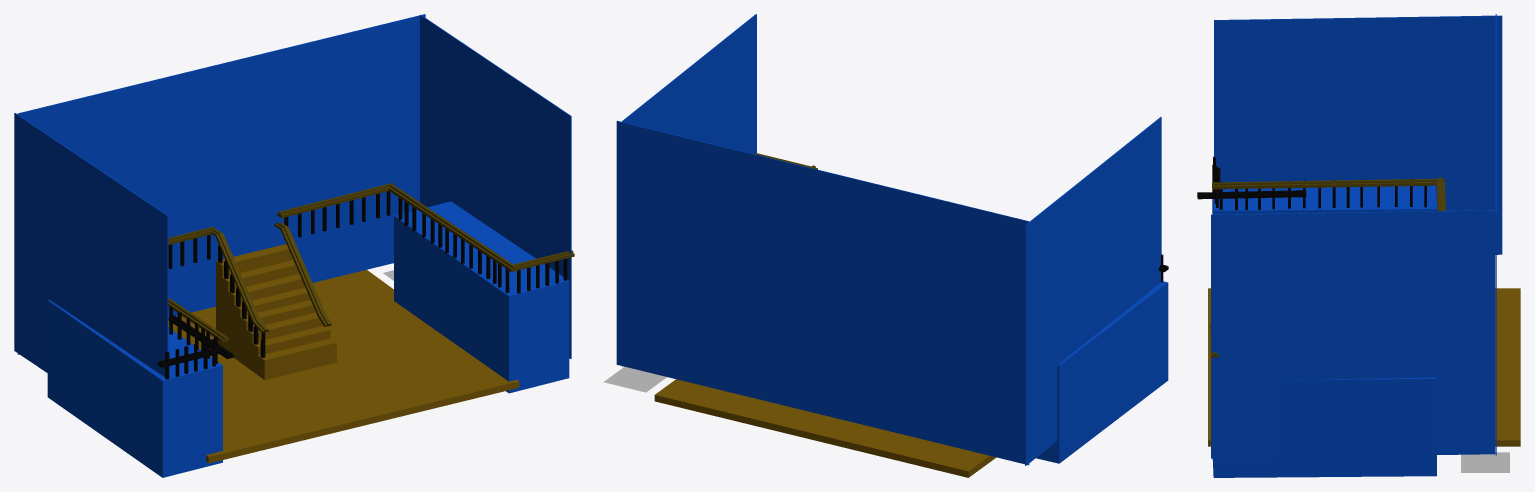
The model's file is casa.gltf.
3 renders of one model, left to right at view 1: azimuth 30°, elevation 25°; view 2: azimuth 150°, elevation 25°; view 3: azimuth 270°, elevation 25°, orthographic.
Visible parts, largest first — view 1: pasted__casa group3 pasted__pCube84, pasted__casa group3 pasted__pCube86, pasted__casa group3 pasted__pCube83, pasted__casa group3 pasted__pCube85, pasted__casa group3 pasted__pCube5, pasted__casa group3 pasted__pCube52, pasted__casa group3 pasted__pCube3, pasted__casa group3 pasted__pCube78, pasted__casa group3 pasted__pCube82, pasted__casa group3 pasted__pCube81, pasted__casa group3 pasted__pCube77; view 2: pasted__casa group3 pasted__pCube84, pasted__casa group3 pasted__pCube86, pasted__casa group3 pasted__pCube52, pasted__casa group3 pasted__pCube85, pasted__casa group3 pasted__pCube83, Eduardo1:pPlane1 pasted__casa group3; view 3: pasted__casa group3 pasted__pCube85, pasted__casa group3 pasted__pCube86, pasted__casa group3 pasted__pCube5, pasted__casa group3 pasted__pCube83, pasted__casa group3 pasted__pCube52, pasted__casa group3 pasted__pCube76, Eduardo1:pPlane1 pasted__casa group3, pasted__casa group3 pasted__pCube84, pasted__casa group3 pasted__pCube75.
Boxes of the visible parts, x1=… form: pasted__casa group3 pasted__pCube84: x1=17, y1=14, x2=425, y2=354; pasted__casa group3 pasted__pCube86: x1=14, y1=113, x2=168, y2=377; pasted__casa group3 pasted__pCube83: x1=168, y1=270, x2=519, y2=463; pasted__casa group3 pasted__pCube85: x1=420, y1=15, x2=571, y2=358; pasted__casa group3 pasted__pCube5: x1=394, y1=201, x2=569, y2=393; pasted__casa group3 pasted__pCube52: x1=47, y1=300, x2=222, y2=477; pasted__casa group3 pasted__pCube3: x1=216, y1=244, x2=336, y2=379; pasted__casa group3 pasted__pCube78: x1=388, y1=184, x2=518, y2=272; pasted__casa group3 pasted__pCube82: x1=274, y1=222, x2=331, y2=326; pasted__casa group3 pasted__pCube81: x1=211, y1=229, x2=269, y2=332; pasted__casa group3 pasted__pCube77: x1=277, y1=183, x2=393, y2=218; pasted__casa group3 pasted__pCube84: x1=616, y1=120, x2=1029, y2=465; pasted__casa group3 pasted__pCube86: x1=1025, y1=117, x2=1161, y2=465; pasted__casa group3 pasted__pCube52: x1=1036, y1=281, x2=1168, y2=463; pasted__casa group3 pasted__pCube85: x1=622, y1=14, x2=756, y2=366; pasted__casa group3 pasted__pCube83: x1=654, y1=379, x2=996, y2=477; Eduardo1:pPlane1 pasted__casa group3: x1=603, y1=366, x2=666, y2=392; pasted__casa group3 pasted__pCube85: x1=1211, y1=210, x2=1495, y2=458; pasted__casa group3 pasted__pCube86: x1=1214, y1=15, x2=1502, y2=254; pasted__casa group3 pasted__pCube5: x1=1212, y1=377, x2=1436, y2=477; pasted__casa group3 pasted__pCube83: x1=1208, y1=288, x2=1520, y2=446; pasted__casa group3 pasted__pCube52: x1=1212, y1=185, x2=1436, y2=214; pasted__casa group3 pasted__pCube76: x1=1212, y1=178, x2=1444, y2=189; Eduardo1:pPlane1 pasted__casa group3: x1=1461, y1=452, x2=1509, y2=472; pasted__casa group3 pasted__pCube84: x1=1495, y1=14, x2=1496, y2=455; pasted__casa group3 pasted__pCube75: x1=1197, y1=190, x2=1306, y2=199.
Bounding box in the file's own units: 2139 × 1294 × 1438.
